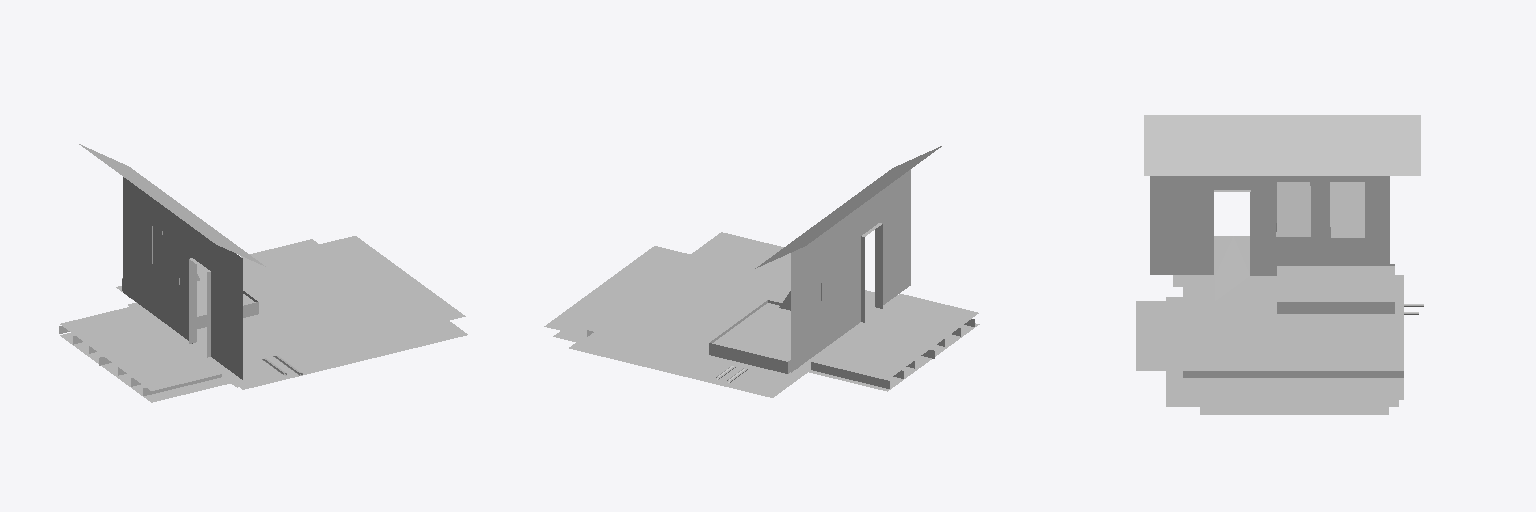
Rendered from front_door.obj.
3 renders of one model, left to right at view 1: azimuth 30°, elevation 25°; view 2: azimuth 150°, elevation 25°; view 3: azimuth 270°, elevation 25°, orthographic.
Visible parts, largest first — view 1: frontdoor_Cube.012; view 2: frontdoor_Cube.012; view 3: frontdoor_Cube.012.
Part boxes in pixels (bbox=[...]): frontdoor_Cube.012: bbox=[59, 144, 467, 402]; frontdoor_Cube.012: bbox=[544, 146, 979, 397]; frontdoor_Cube.012: bbox=[1136, 115, 1423, 414].
Size of the model in its own units: 8.12 by 4.21 by 6.24.